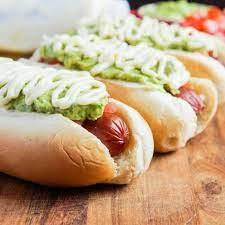Completos: (39, 22, 208, 151), (0, 52, 151, 183)
